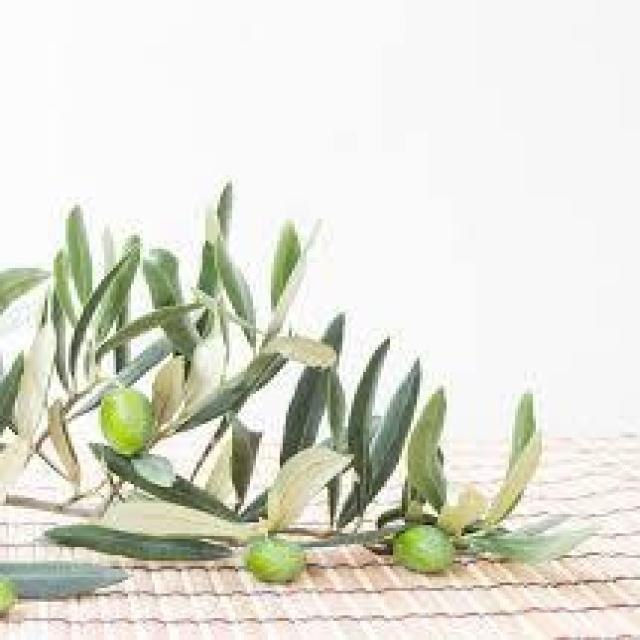Healthy: (101, 386, 152, 454), (393, 525, 452, 572), (241, 536, 304, 580)
